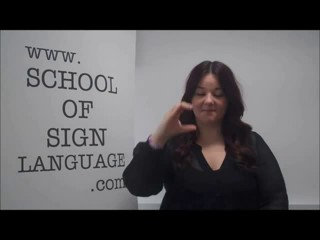C: (156, 98, 200, 142)
